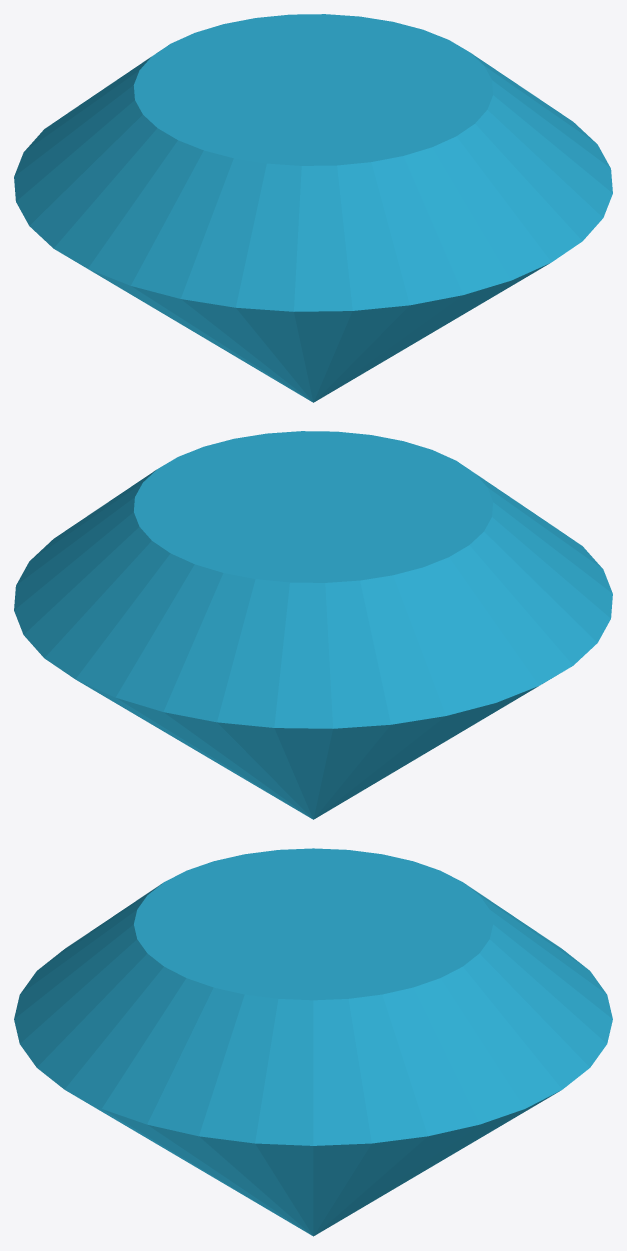
Rendered from diamond.obj.
The picture shows the model from 3 angles, top to bottom: view 1: azimuth 30°, elevation 25°; view 2: azimuth 150°, elevation 25°; view 3: azimuth 270°, elevation 25°; orthographic projection.
Parts seen in each view (by area): view 1: Diamond; view 2: Diamond; view 3: Diamond.
Boxes of the visible parts, x1,y1,x2,y2 form: Diamond: [14, 14, 612, 402]; Diamond: [14, 431, 612, 819]; Diamond: [14, 848, 612, 1236].
Bounding box in the file's own units: 2 × 1.15 × 2.
